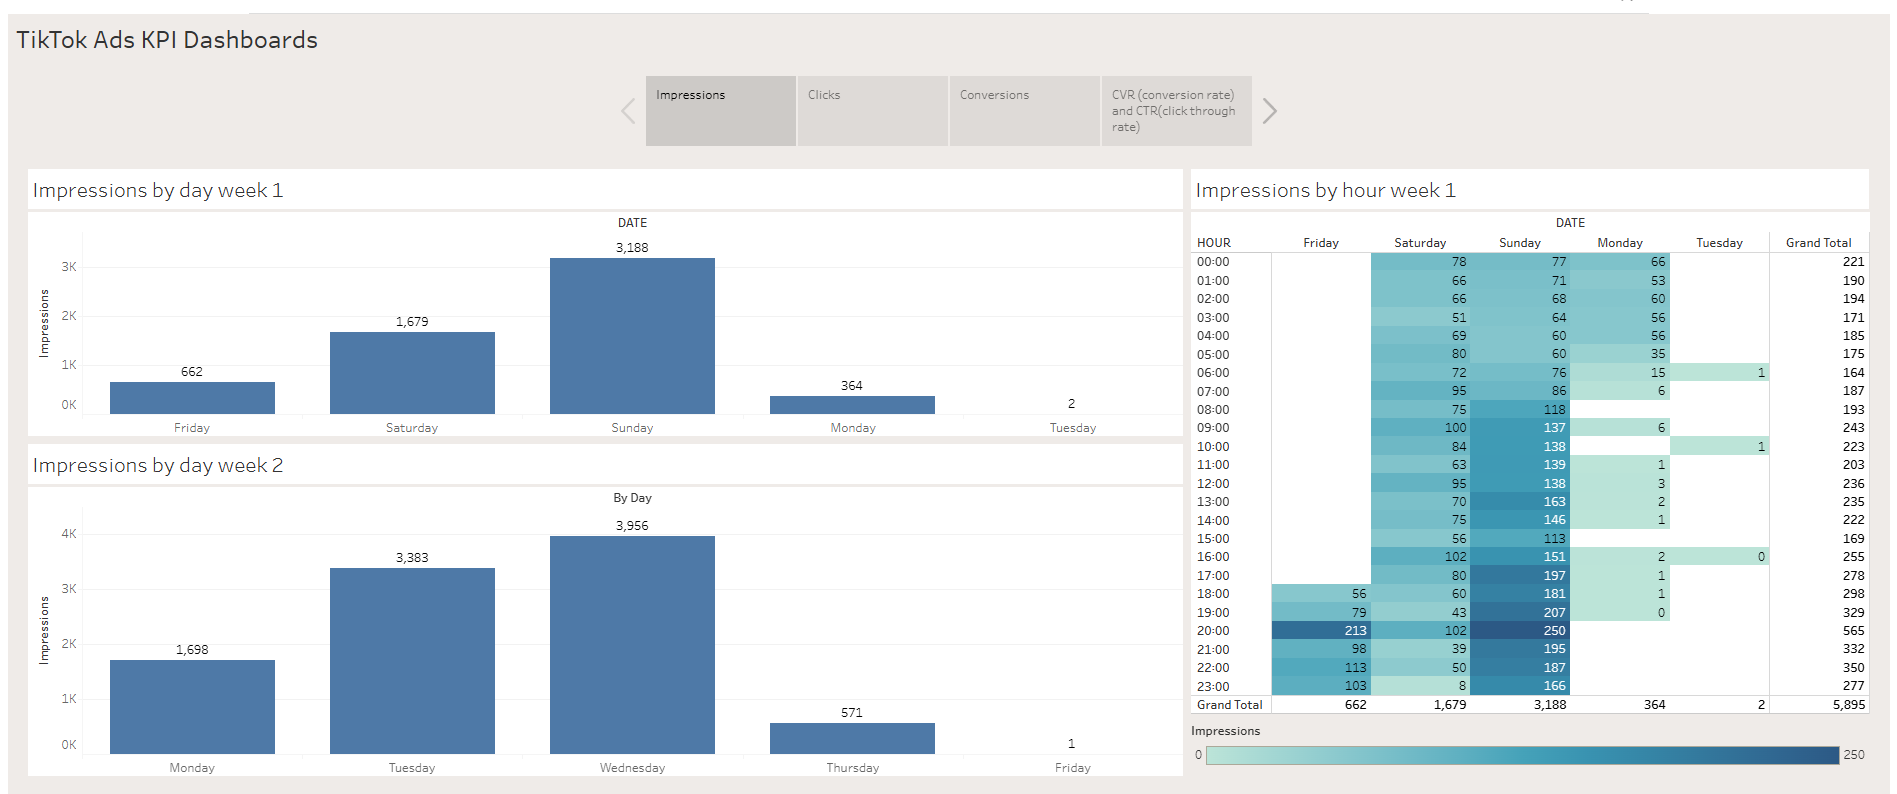

Layout of this report page (visuals, bound fields, positions):
{"tool":"tableau","page":{"name":"Dashboard 2","canvas":[1000,1000],"units":"permille","ordinal":0},"visuals":[{"type":"image","param":"Image/league_logo3.jpg","box":[5.2,8.3,230.2,219.8]},{"type":"text","box":[235.4,8.3,758.2,100]},{"type":"text","box":[235.4,108.4,758.2,42.1]},{"type":"image","param":"Image/top.png","box":[236,151.5,71,75.6]},{"type":"text","box":[307,151.5,80.5,75.6]},{"type":"image","param":"Image/jungle.png","box":[388.8,151.5,69.7,75.6]},{"type":"text","box":[458.5,151.5,61.3,75.6]},{"type":"image","param":"Image/mid.png","box":[531.9,151.5,78.1,75.6]},{"type":"text","box":[609.9,151.5,76.6,75.6]},{"type":"image","param":"Image/supp.png","box":[687.9,151.5,81.9,75.6]},{"type":"text","box":[769.8,151.5,69,75.6]},{"type":"image","param":"Image/bottom.png","box":[840.1,151.5,43.8,75.6]},{"type":"text","box":[883.9,151.5,109,75.6]},{"type":"worksheet","title":"Sheet 1","mark":"Automatic","rows":["Name"],"cols":["Pick %","Pick %"],"box":[5.2,228.2,352.6,381.8]},{"type":"worksheet","title":"Sheet 2","mark":"Automatic","rows":["Name","Role"],"cols":["Win %","Win %"],"box":[357.8,228.2,419,381.8]},{"type":"worksheet","title":"Sheet 4","mark":"Shape","rows":["Name"],"cols":["Role"],"box":[776.8,228.2,218.1,763.5]},{"type":"worksheet","title":"Sheet 3","mark":"Automatic","rows":["Name"],"cols":["Ban %","Ban %"],"box":[5.2,609.9,352.6,381.8]},{"type":"worksheet","title":"Sheet 5","mark":"Automatic","rows":["Role"],"cols":["Win %","Win %"],"box":[357.8,609.9,419,381.8]}]}

Visuals, with their boxes on the dashboard's canvas, which has no fixed pixel size, in thousandths of its width and height (x1, y1, x2, y2). These are canvas units, not pixel positions in the 1897x794 screenshot, which may show the page scaled, cropped or inside an application window:
image: {"left": 5, "top": 8, "right": 235, "bottom": 228}
text: {"left": 235, "top": 8, "right": 994, "bottom": 108}
text: {"left": 235, "top": 108, "right": 994, "bottom": 150}
image: {"left": 236, "top": 152, "right": 307, "bottom": 227}
text: {"left": 307, "top": 152, "right": 388, "bottom": 227}
image: {"left": 389, "top": 152, "right": 458, "bottom": 227}
text: {"left": 458, "top": 152, "right": 520, "bottom": 227}
image: {"left": 532, "top": 152, "right": 610, "bottom": 227}
text: {"left": 610, "top": 152, "right": 686, "bottom": 227}
image: {"left": 688, "top": 152, "right": 770, "bottom": 227}
text: {"left": 770, "top": 152, "right": 839, "bottom": 227}
image: {"left": 840, "top": 152, "right": 884, "bottom": 227}
text: {"left": 884, "top": 152, "right": 993, "bottom": 227}
"Sheet 1" worksheet: {"left": 5, "top": 228, "right": 358, "bottom": 610}
"Sheet 2" worksheet: {"left": 358, "top": 228, "right": 777, "bottom": 610}
"Sheet 4" worksheet (Shape marks): {"left": 777, "top": 228, "right": 995, "bottom": 992}
"Sheet 3" worksheet: {"left": 5, "top": 610, "right": 358, "bottom": 992}
"Sheet 5" worksheet: {"left": 358, "top": 610, "right": 777, "bottom": 992}
